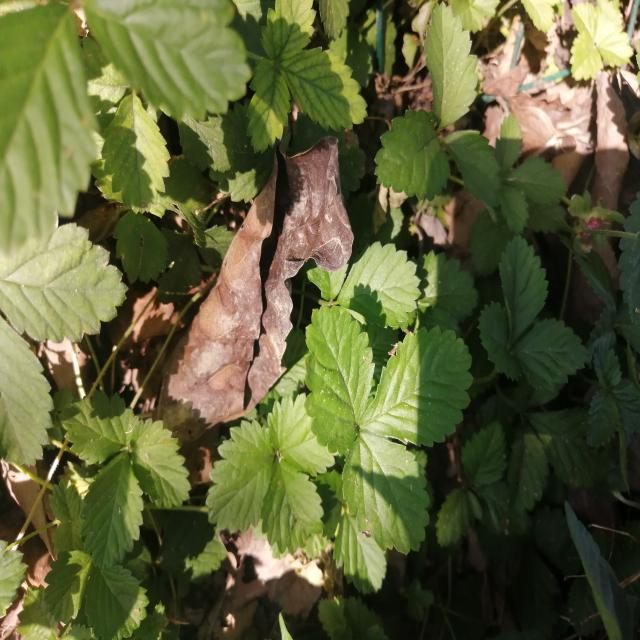Mock_strawberry: (225, 306, 460, 557)
